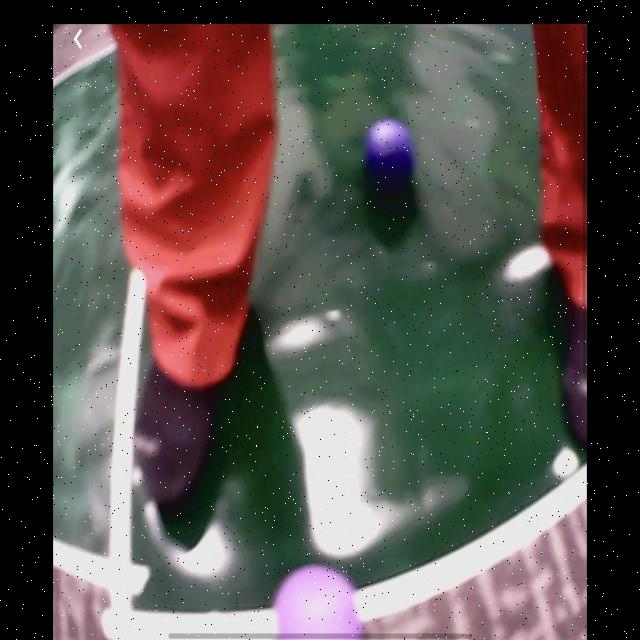ball: (271, 566, 363, 637), (365, 118, 415, 184)
